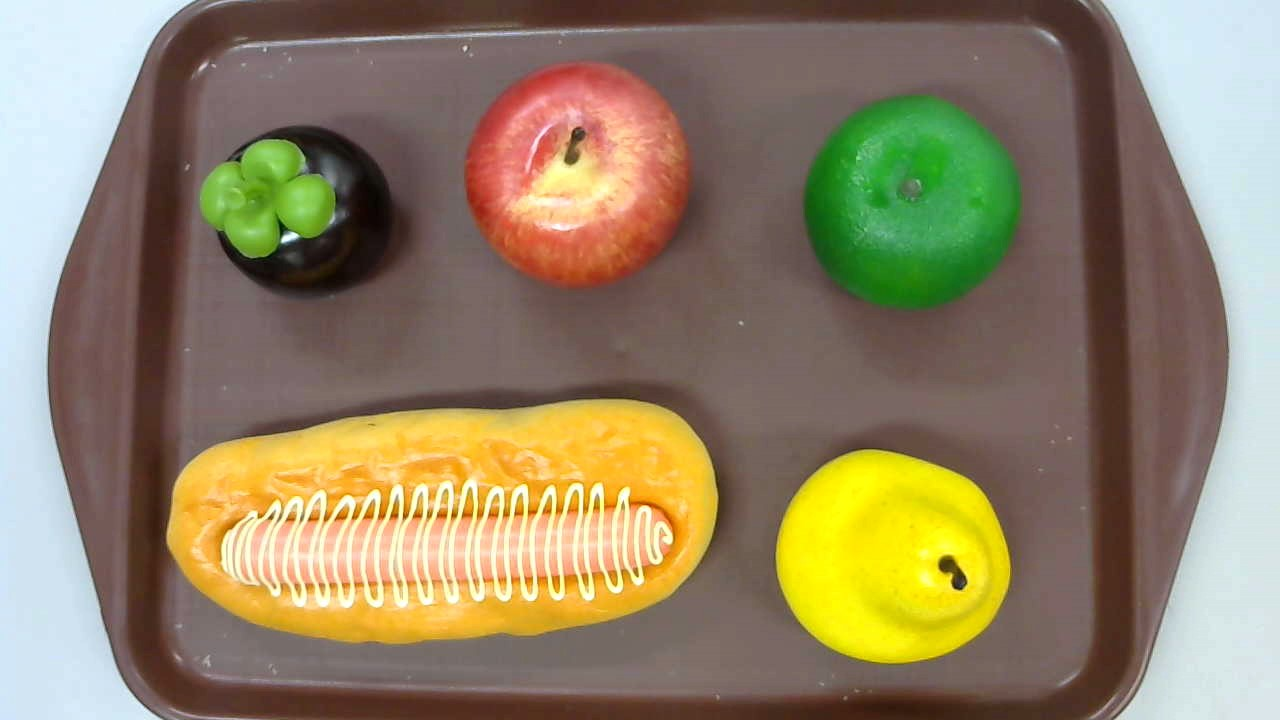green orange: (803, 94, 1022, 311)
hot dog: (166, 398, 718, 646)
mangosteen: (200, 125, 391, 300)
red apple: (466, 59, 692, 290)
yellow pear: (774, 449, 1011, 663)
